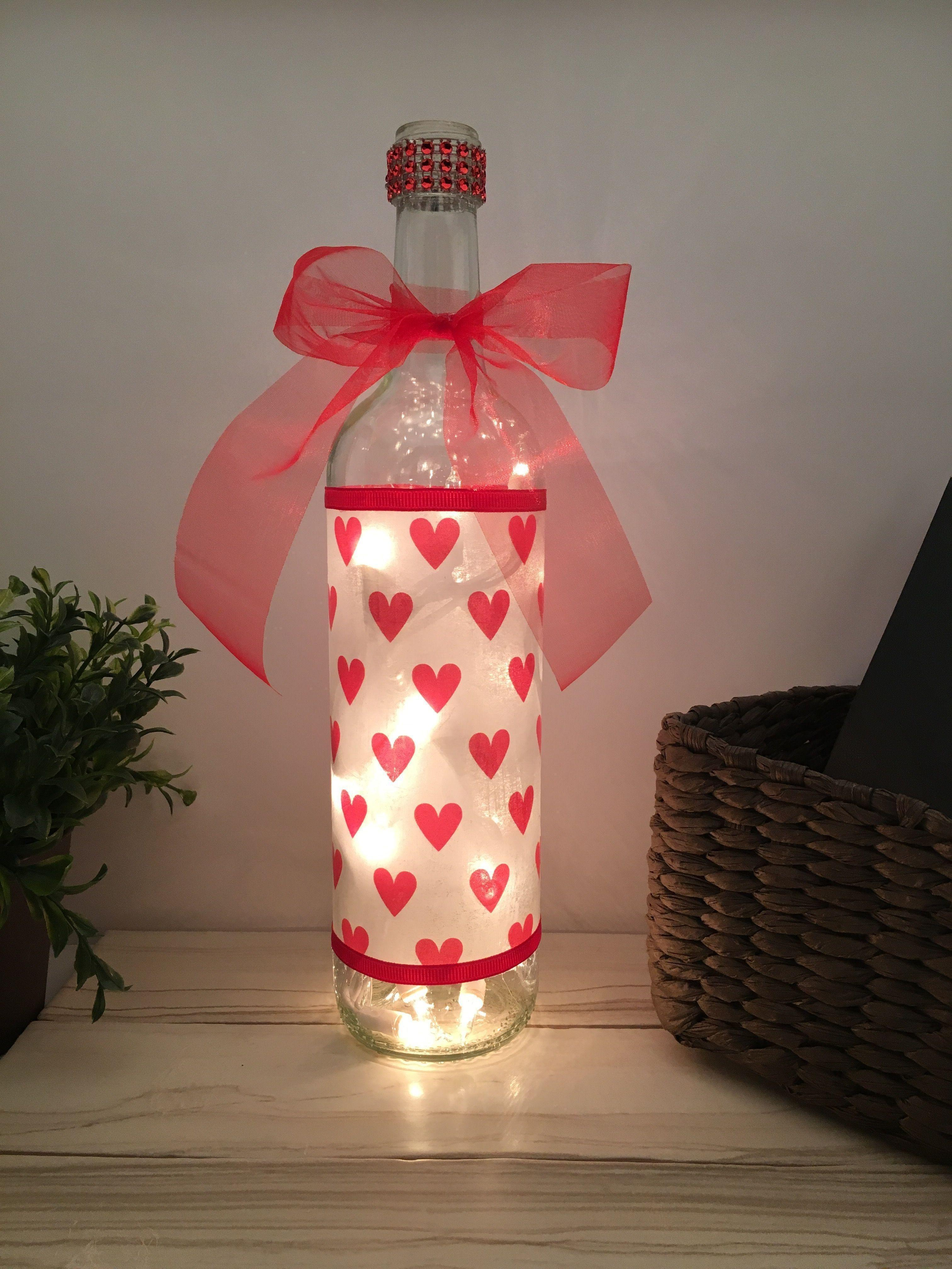bottle-glass: (319, 117, 557, 1069)
